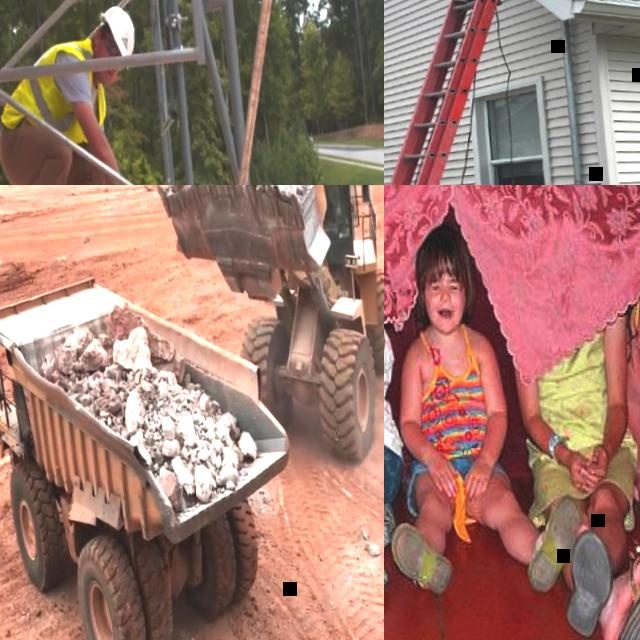Hardhat: (99, 4, 135, 71)
NO-Hardhat: (418, 230, 469, 281)
NO-Mask: (429, 300, 464, 334), (95, 48, 114, 83)
NO-Safety Vest: (531, 322, 618, 455), (416, 328, 489, 454)
Person: (384, 221, 582, 600), (517, 294, 640, 640), (0, 2, 150, 185), (615, 242, 640, 578)
Safety Vest: (0, 34, 108, 146)
machinery: (0, 258, 304, 640), (150, 185, 384, 476)
